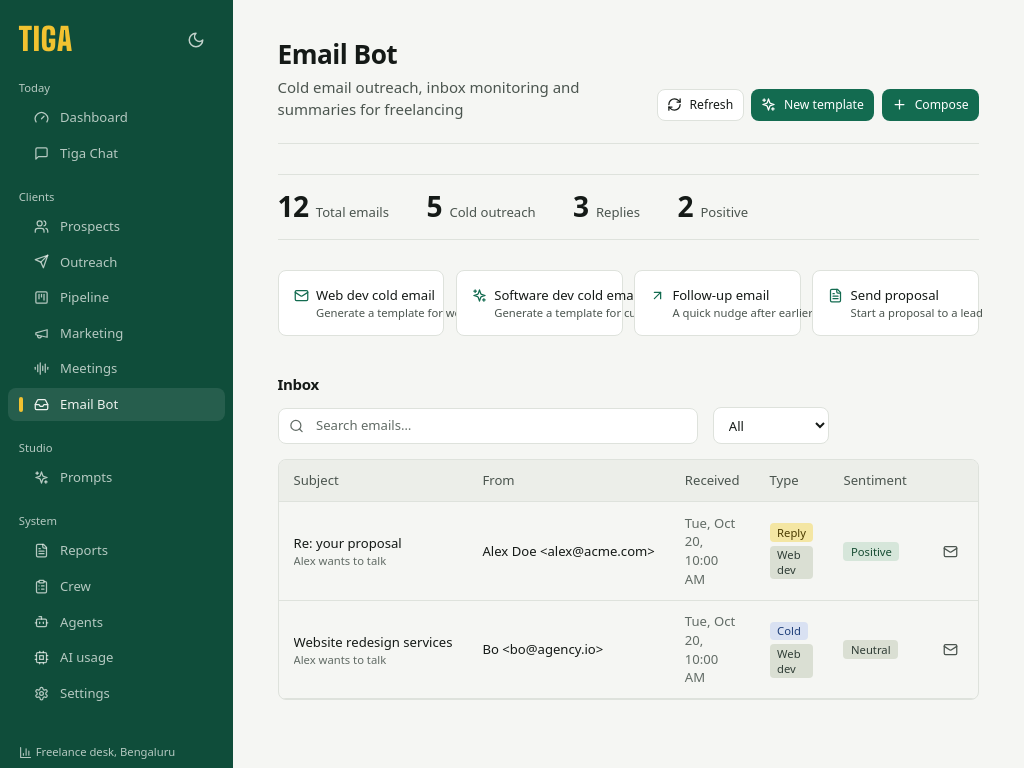
Scenario: EmailBot message detail › shows the message, contact details and sentiment in an accessible dialog
The image size is (1024, 768).
Click the button "Re: your proposal". click: click(348, 544)
box: [294, 534, 402, 553]
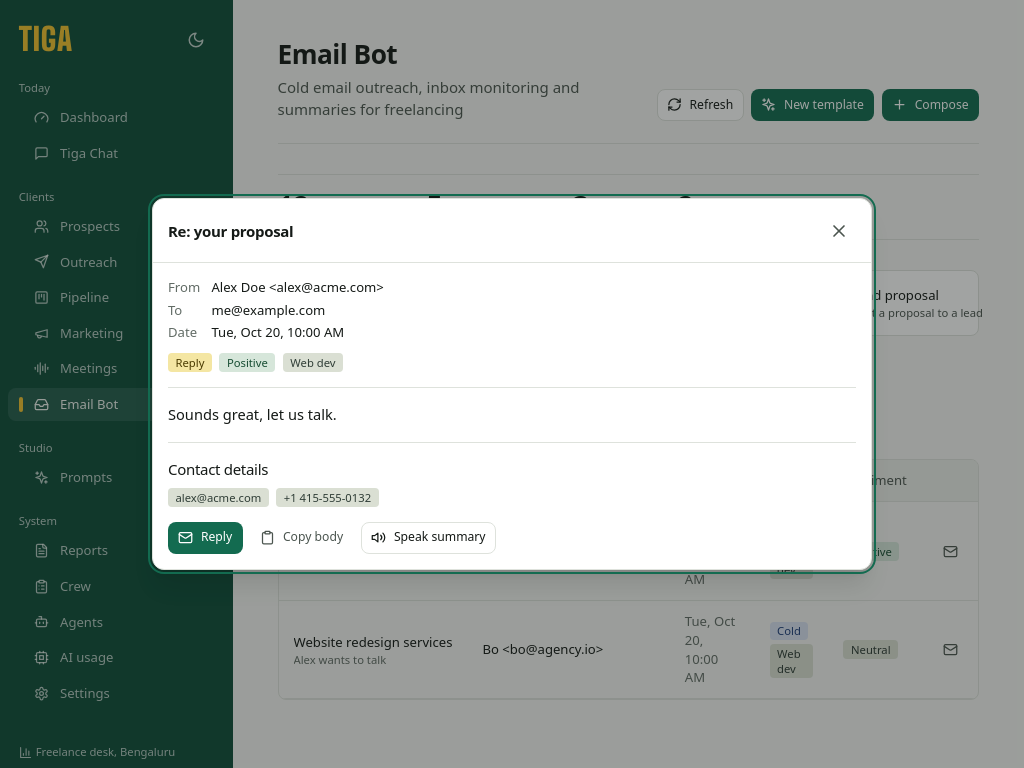
Check: the text "Sounds great, let us talk." is shown, box [168, 404, 337, 424]
Check: the text "+1 415-555-0132" is shown, box [276, 488, 379, 507]
Check: the text "Positive" is shown, box [219, 354, 275, 372]
